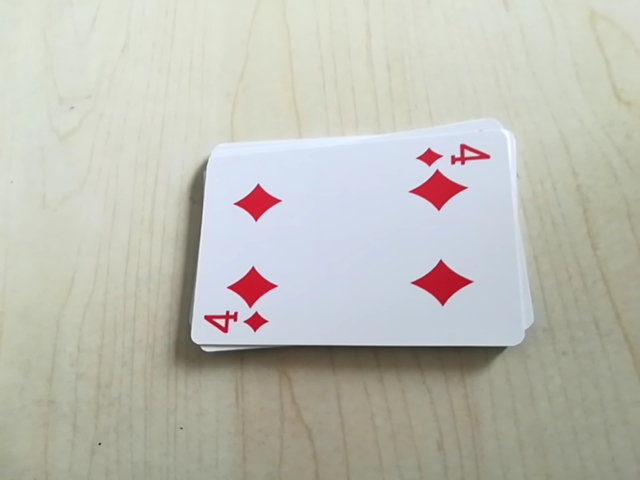fk 4: (414, 132, 498, 172), (197, 308, 273, 345)
